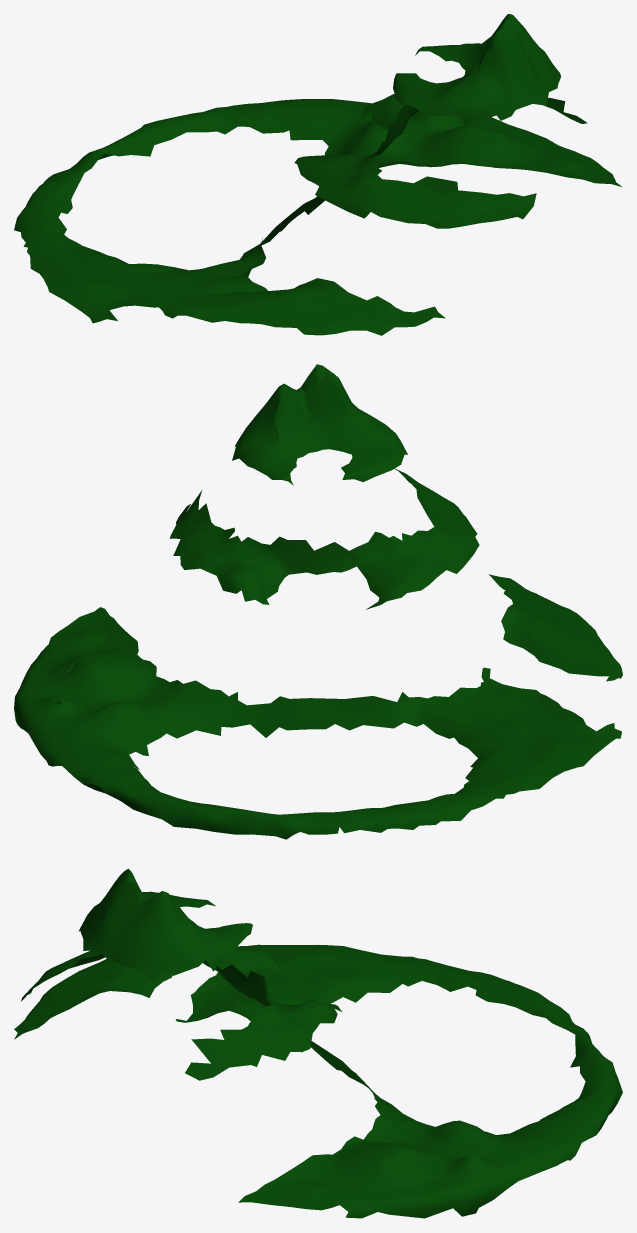
The model's file is grass3.FBX.
3 views of the same model, one above another, from view 1: azimuth 30°, elevation 25°; view 2: azimuth 150°, elevation 25°; view 3: azimuth 270°, elevation 25° (orthographic). The views are drawn at different scales.
Parts seen in each view (by area): view 1: Group31593; view 2: Group31593; view 3: Group31593.
Boxes of the visible parts, bbox=[...] form: Group31593: bbox=[14, 14, 621, 335]; Group31593: bbox=[14, 364, 622, 839]; Group31593: bbox=[14, 868, 622, 1218].
Size of the model in its own units: 6631117 by 3233687 by 6421461.
